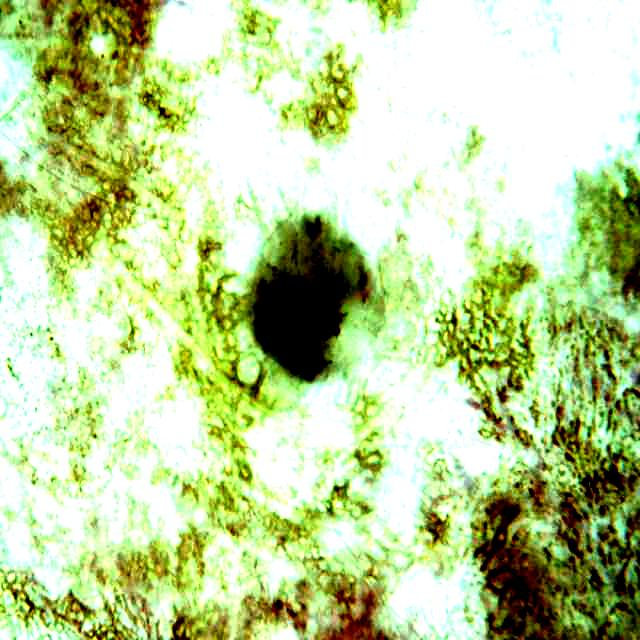BCC: (217, 118, 391, 486)
